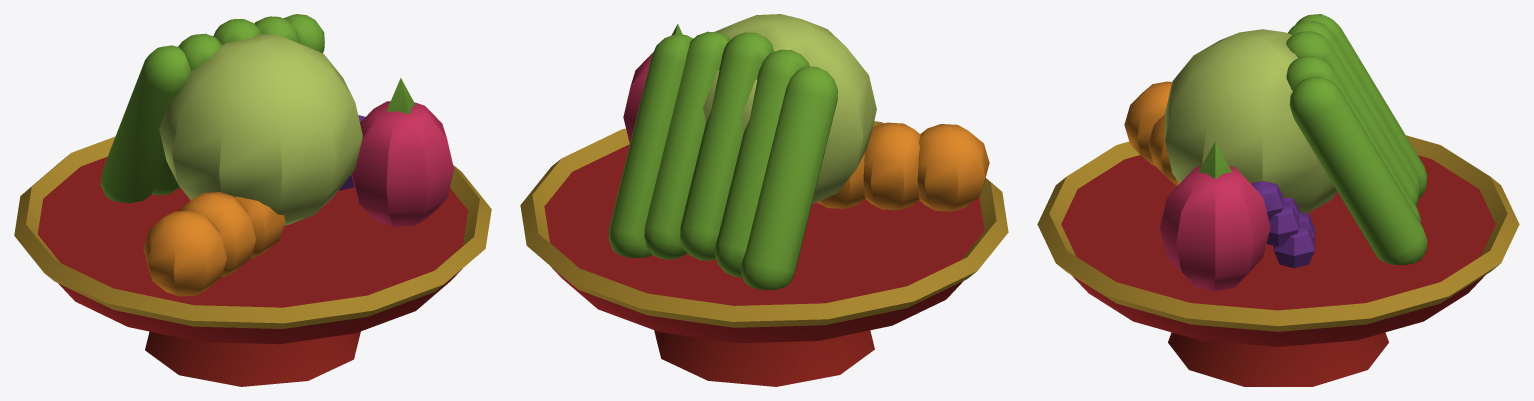
The model's file is pr-mamnguqua.glb.
3 renders of one model, left to right at view 1: azimuth 30°, elevation 25°; view 2: azimuth 150°, elevation 25°; view 3: azimuth 270°, elevation 25°, orthographic. The views are drawn at different scales.
Bounding box in the file's own units: 0.61 × 0.4313 × 0.61.
